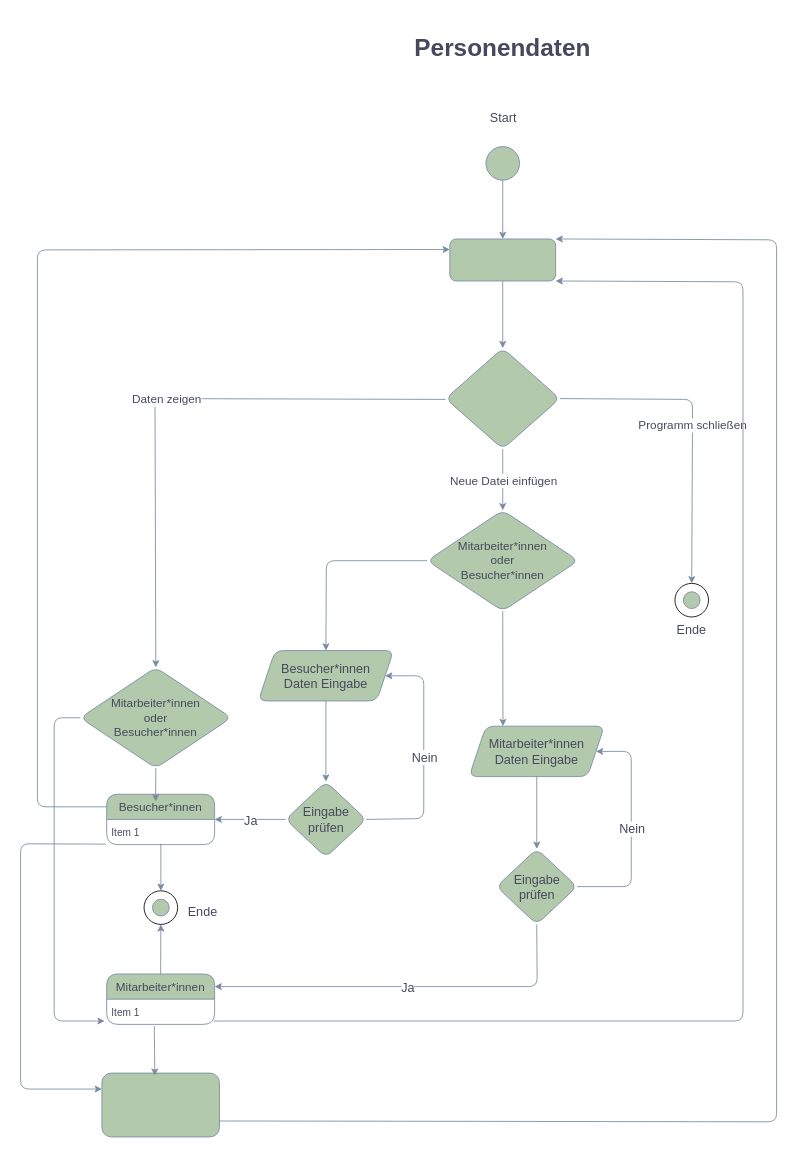
Image size: 798x1152. Some labels were removed from this diagram. The shapes that lost their labels are listed below. From the top down, each one's centre as x and y in pixels, then its label:
point 502,259: Menüliste
point 502,398: Menüwahl prüfen
point 160,1104: Personendaten zeigen
